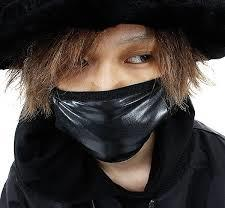WRONG: (50, 48, 170, 165)
